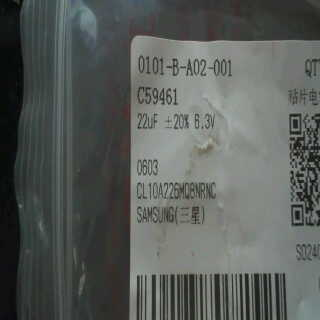22uF: (134, 111, 160, 130)
